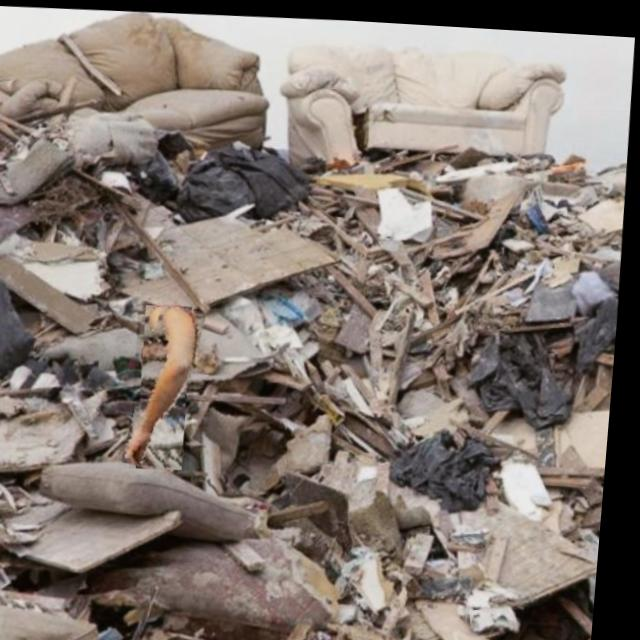Person in Rubble: (133, 300, 207, 469)
